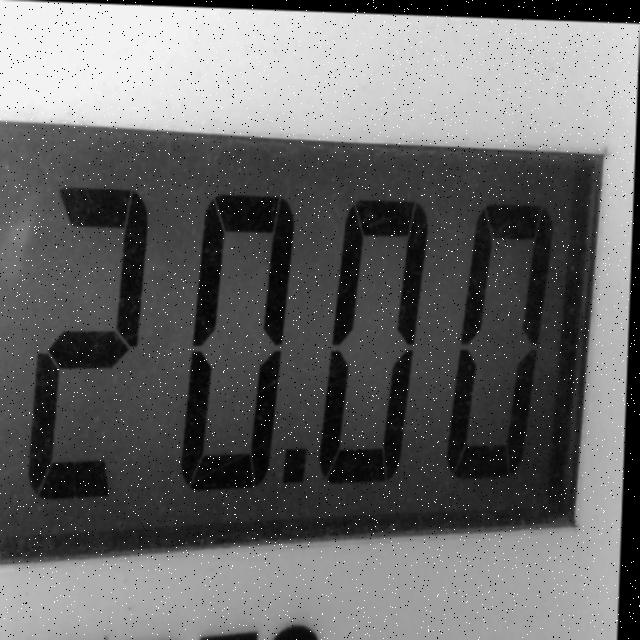.: (272, 425, 321, 516)
0: (180, 169, 299, 500), (314, 172, 433, 499), (446, 170, 564, 498)
2: (20, 159, 164, 509)
